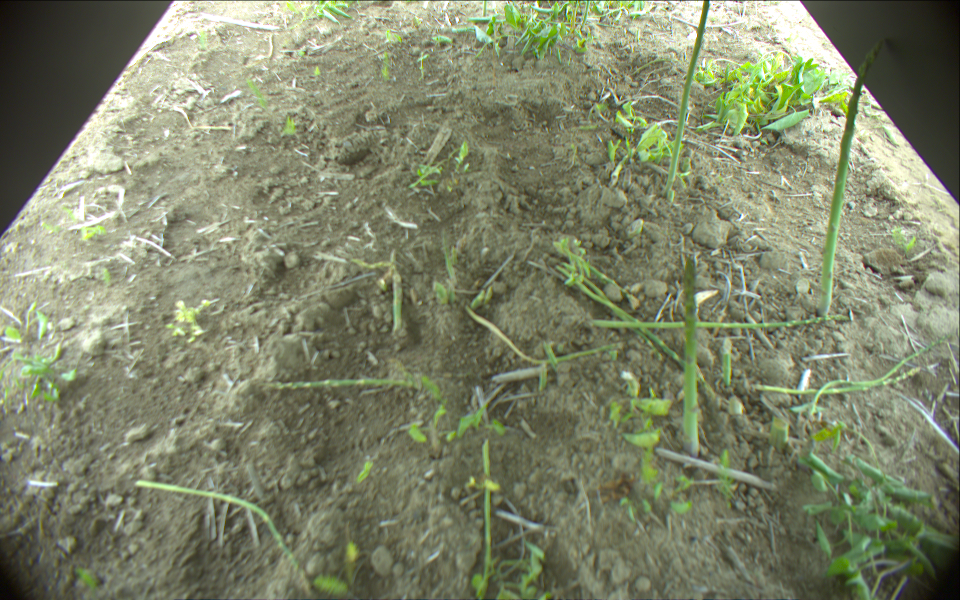aspa: (554, 261, 715, 399), (134, 480, 314, 600), (817, 37, 887, 316), (810, 336, 947, 418), (662, 1, 711, 196), (589, 309, 852, 330), (760, 368, 920, 393), (682, 247, 700, 458), (254, 379, 425, 396), (481, 440, 491, 600), (441, 226, 454, 284), (392, 271, 402, 330), (721, 347, 733, 389), (581, 1, 590, 27), (482, 1, 488, 21)
